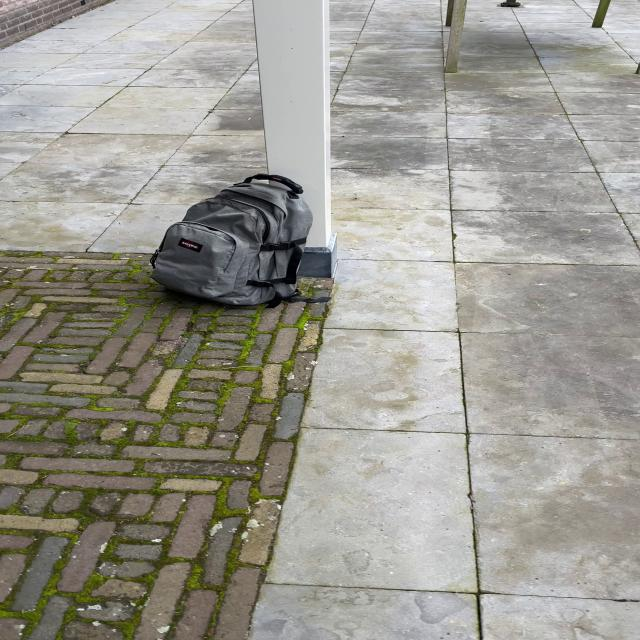backpack: (144, 170, 318, 311)
